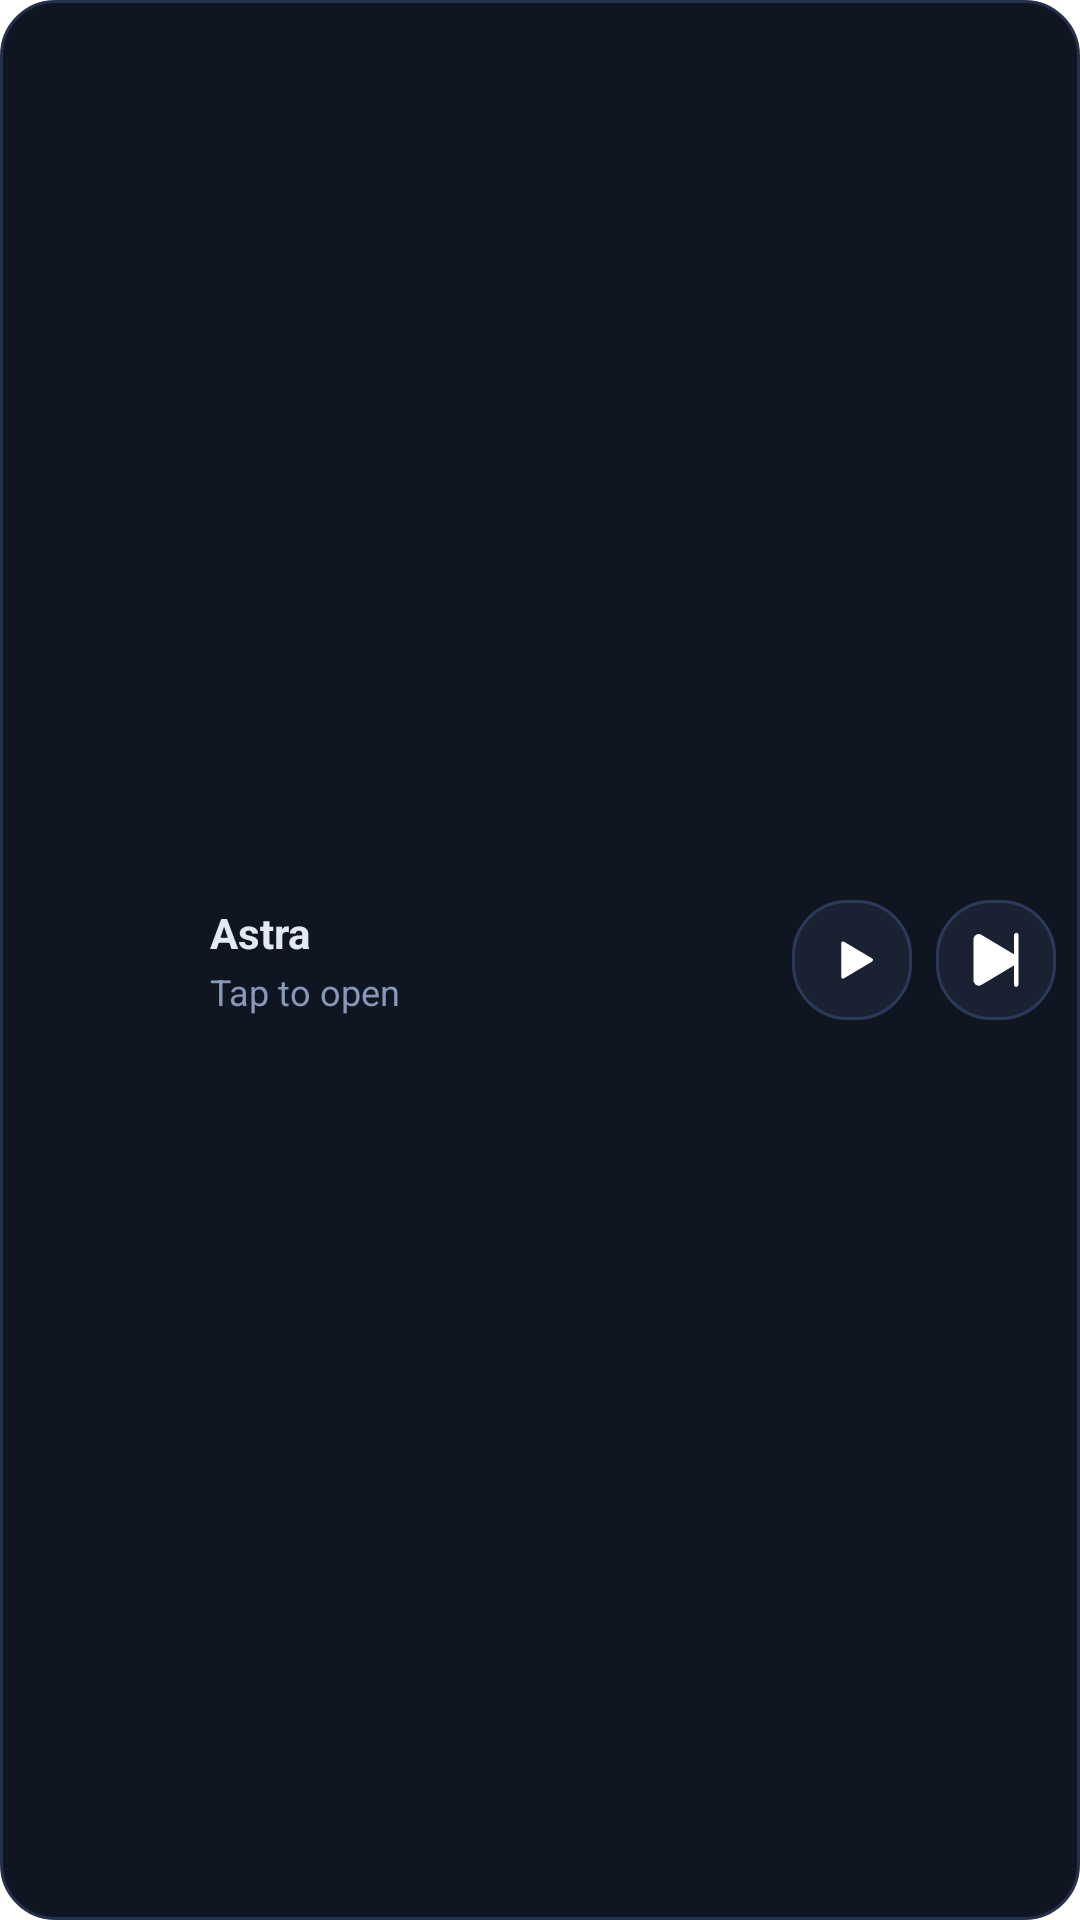

Locate icon controls on the screen. Image size 1080*1920, boxes as (x1, y1, x2, y2).
Next: (936, 900, 1056, 1020)
Play: (792, 900, 912, 1020)
